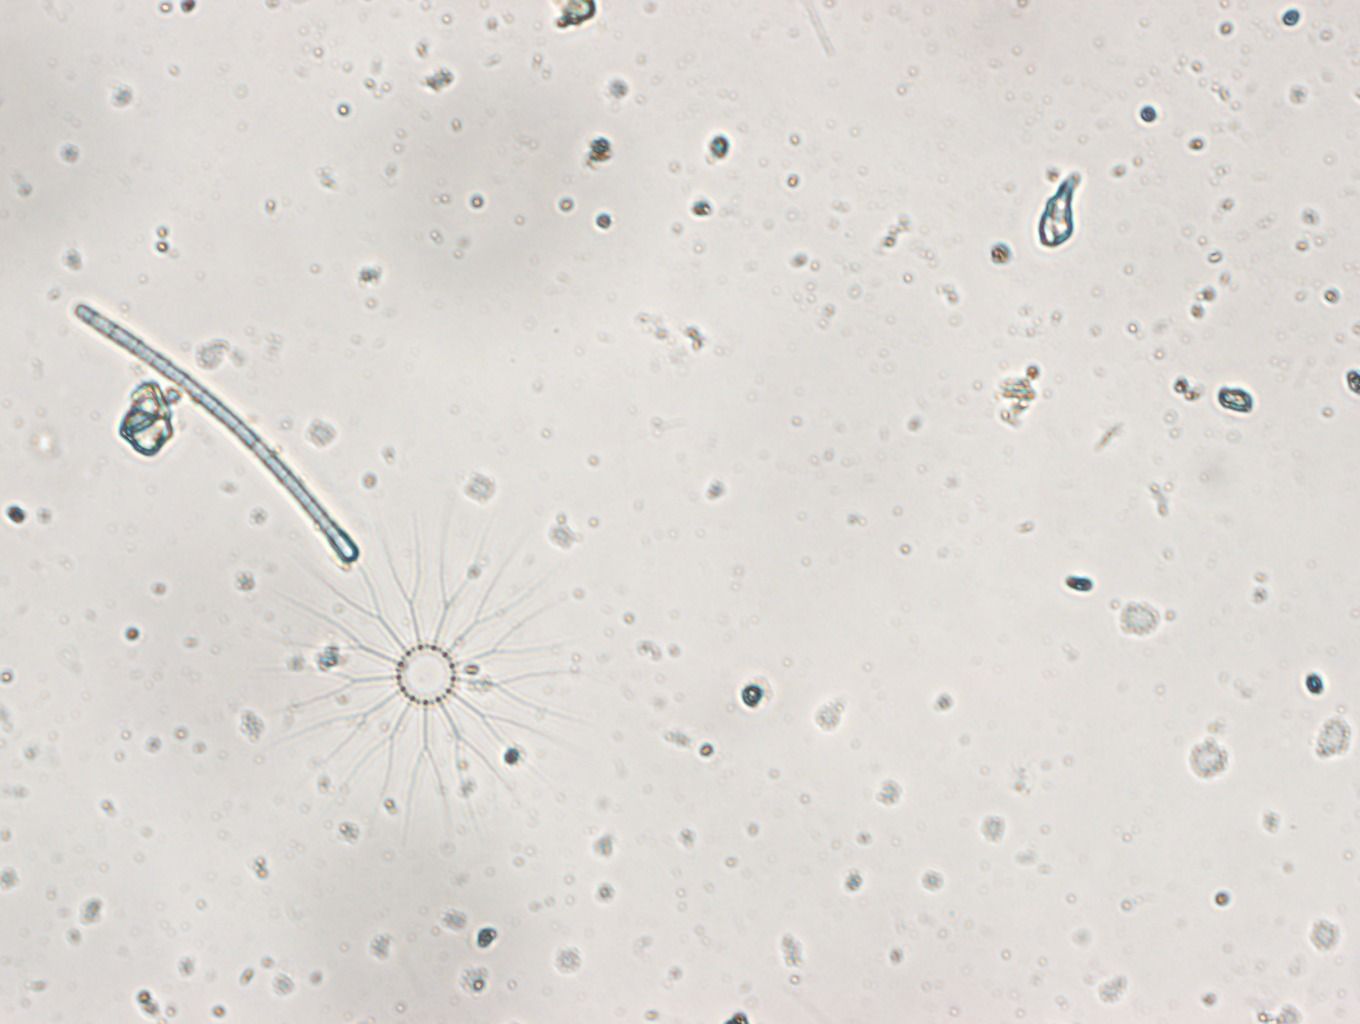bacteriastrum: (288, 530, 584, 819)
